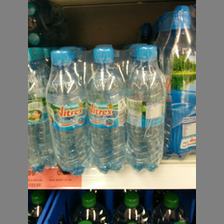water: (43, 48, 91, 175), (160, 4, 195, 162), (126, 45, 166, 173), (87, 46, 125, 174)
